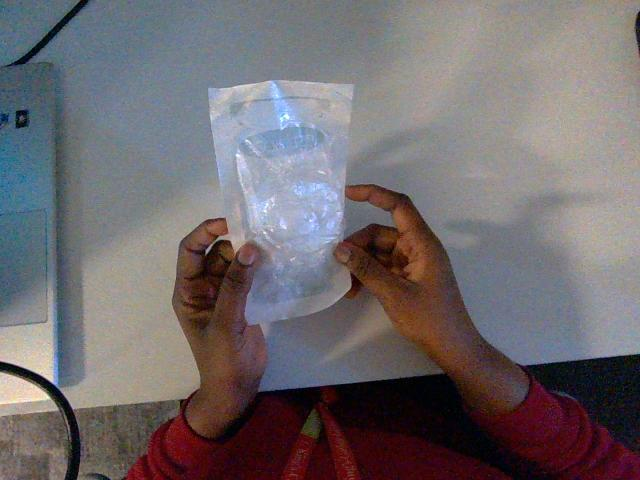gallipot: (209, 81, 352, 323)
